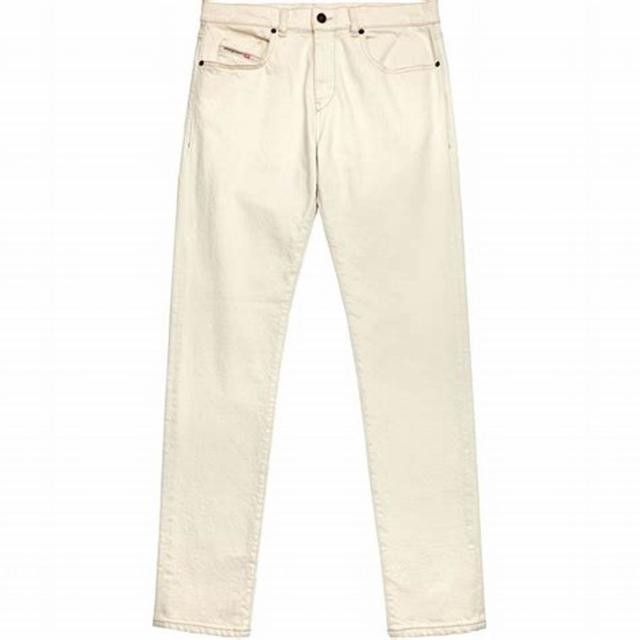long-pants: (150, 0, 485, 640)
